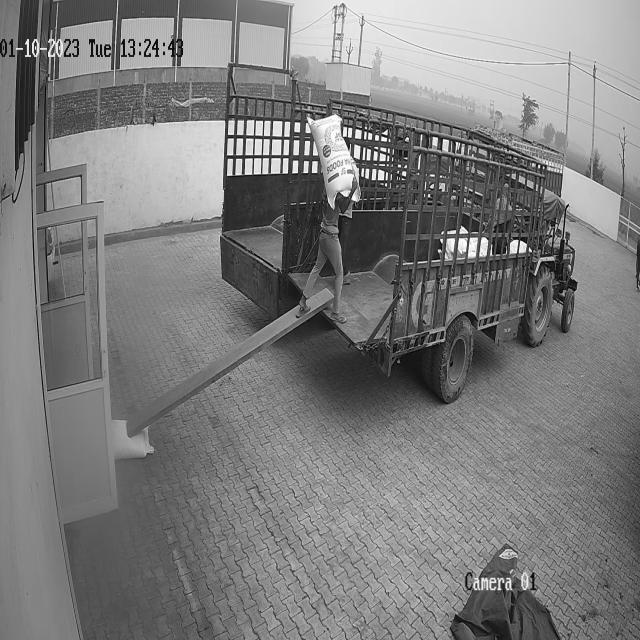sack: (307, 113, 361, 208), (112, 419, 154, 459)
